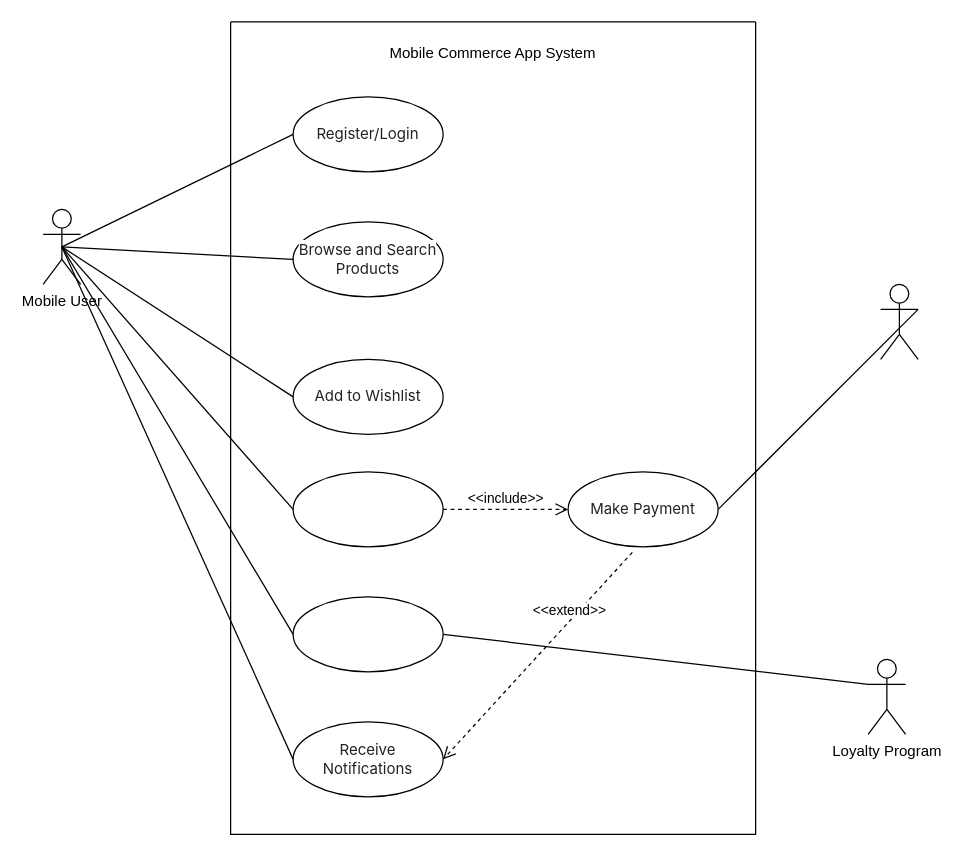
Image size: 978x856. Some labels were removed from this diagram. The shapes that lost their labels are listed below. From the top down, each one's centre as x and y in pixels, then its label:
the point at 898,321: Payment Service
the point at 367,509: Checkout
the point at 367,634: Earn Reward Points
